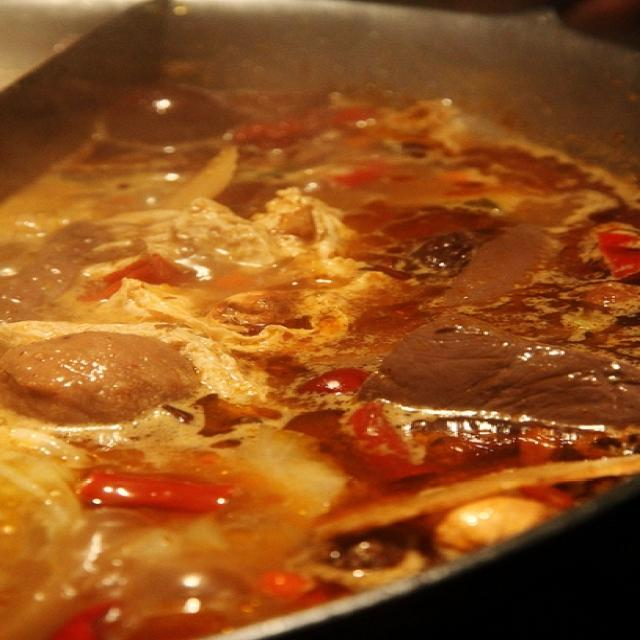汤锅炖物: (17, 18, 623, 623)
